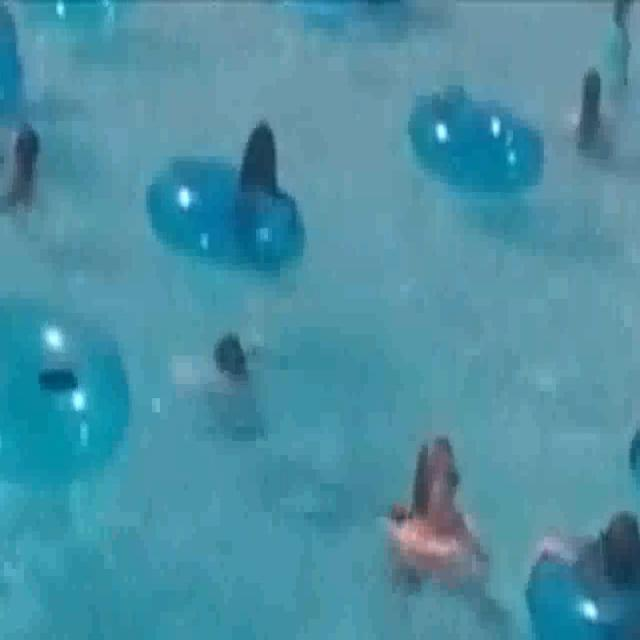drowning: (166, 296, 290, 447)
